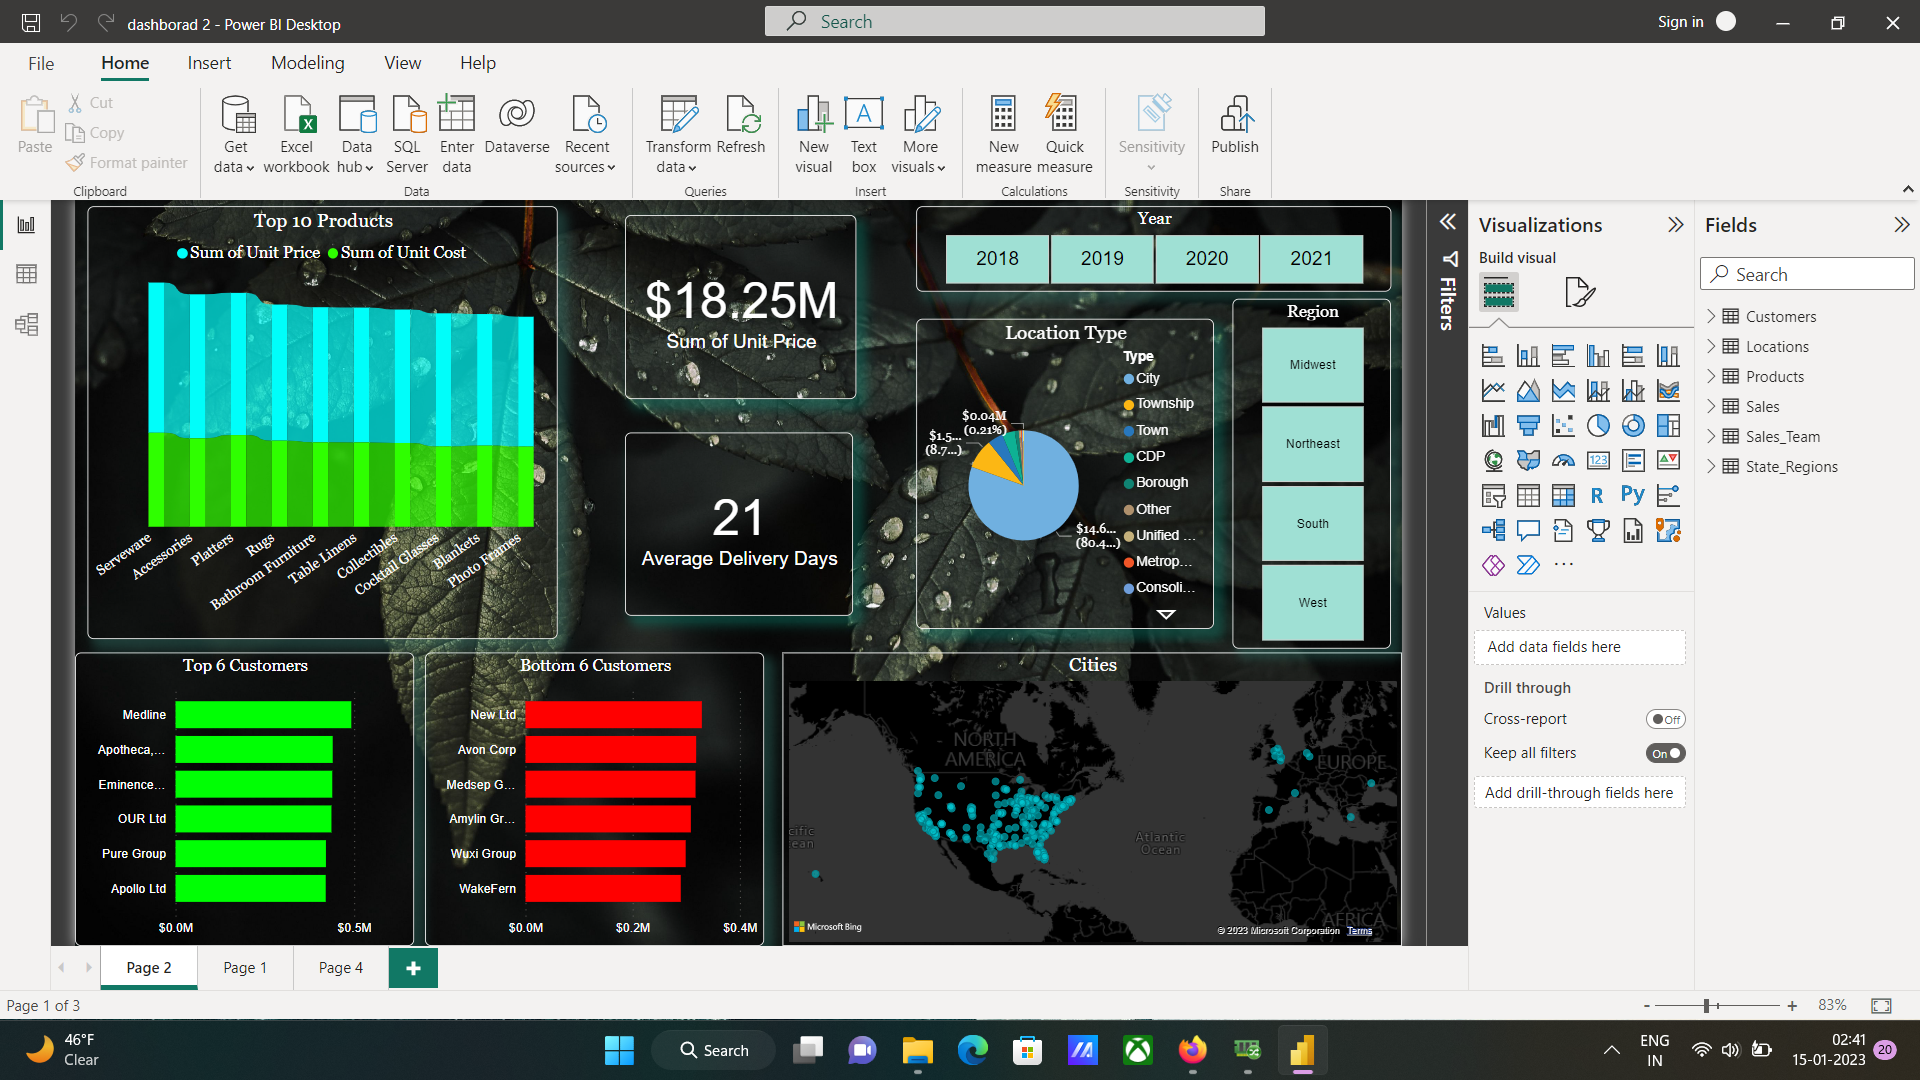

This screenshot's page, from the dashboard's own definition file:
{"tool":"powerbi","page":{"name":"Page 2","canvas":[1280,720],"ordinal":0},"visuals":[{"type":"barChart","title":"Top 6 Customers","fields":{"Y":["Sum(Sales.Unit Price)"],"Category":["Customers.Customer Names"]},"box":[0,436.7,326.9,282.9],"z":0},{"type":"barChart","title":"Bottom 6 Customers","fields":{"Y":["Sum(Sales.Unit Price)"],"Category":["Customers.Customer Names"]},"box":[337.9,436.7,327,282.9],"z":1000},{"type":"map","title":"Cities","fields":{"Category":["Locations.City Name"]},"box":[682.6,436.7,597.4,282.9],"z":2000},{"type":"ribbonChart","title":"Top 10 Products","fields":{"Category":["Products.Product Name"],"Y":["Sum(Sales.Unit Price)","Sum(Sales.Unit Cost)"]},"box":[12.1,6,453.5,417.3],"z":3000},{"type":"card","fields":{"Values":["Sum(Sales.Unit Price)"]},"box":[530.7,14.5,223.1,177.3],"z":4001},{"type":"slicer","title":"Year","fields":{"Values":["Sales.Year"]},"box":[811.7,6,458.3,82],"z":4002},{"type":"slicer","title":"Region","fields":{"Values":["Sales_Team.Region"]},"box":[1116.8,95.3,153.2,337.7],"z":4003},{"type":"card","fields":{"Values":["Avg(Sales.Delivery Days)"]},"box":[530.1,223.9,219.7,177.2],"z":4004},{"type":"pieChart","title":"Location Type","fields":{"Y":["Sum(Sales.Unit Price)"],"Category":["Locations.Type"]},"box":[811.7,114.6,287,299.1],"z":4005}]}

Visuals, with their boxes on the page's 1280x720 design canvas (x1, y1, x2, y2). These are canvas units, not pixel positions in the 1920x1080 screenshot, which may show the page scaled, cropped or inside an application window:
"Top 6 Customers" barChart: box=[0, 437, 327, 720]
"Bottom 6 Customers" barChart: box=[338, 437, 665, 720]
"Cities" map: box=[683, 437, 1280, 720]
"Top 10 Products" ribbonChart: box=[12, 6, 466, 423]
card - Sum(Sales.Unit Price): box=[531, 14, 754, 192]
"Year" slicer: box=[812, 6, 1270, 88]
"Region" slicer: box=[1117, 95, 1270, 433]
card - Avg(Sales.Delivery Days): box=[530, 224, 750, 401]
"Location Type" pieChart: box=[812, 115, 1099, 414]
